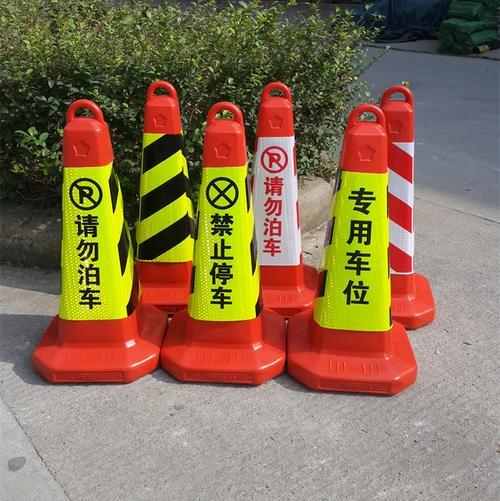cone_barrel: (31, 100, 159, 383), (297, 110, 415, 395), (171, 109, 282, 387), (245, 87, 313, 318), (129, 86, 201, 302), (377, 87, 435, 329)
